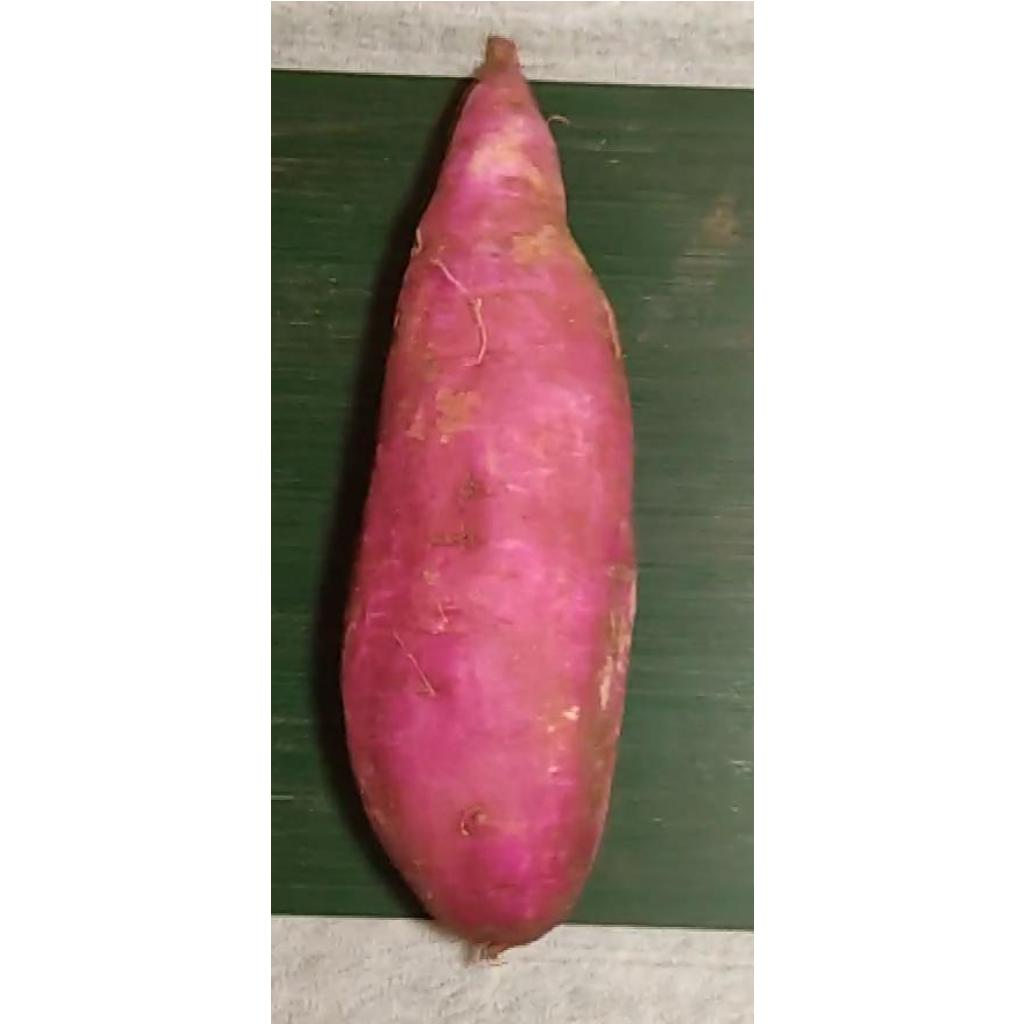Sweet Potato: (336, 37, 635, 942)
